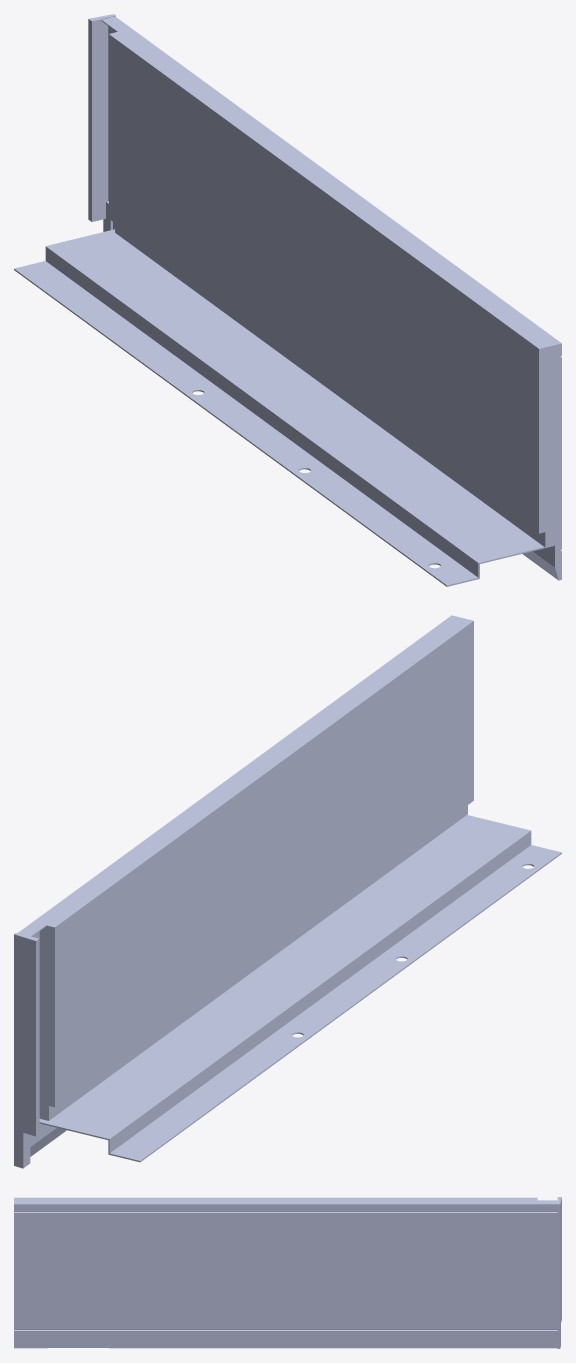
File: lg-kava-K450-m.glb
The picture shows the model from 3 angles, top to bottom: view 1: azimuth 30°, elevation 25°; view 2: azimuth 150°, elevation 25°; view 3: azimuth 270°, elevation 25°; orthographic projection. The views are drawn at different scales.
Visible parts, largest first — view 1: 49057693; view 2: 49057693; view 3: 49057693.
Boxes of the visible parts, box(x1,y1,x2,y2) form: 49057693: box(14, 14, 561, 586); 49057693: box(14, 615, 561, 1168); 49057693: box(14, 1197, 561, 1348).
Size of the model in its own units: 0.0653 by 0.1292 by 0.4435.
